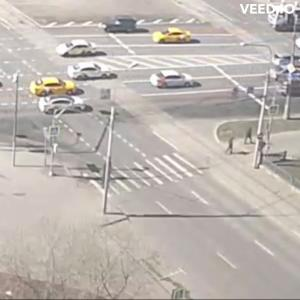car: (39, 98, 90, 118), (150, 71, 202, 90), (31, 77, 77, 98), (57, 41, 109, 59), (67, 62, 112, 82), (153, 27, 195, 45), (106, 18, 140, 36)
